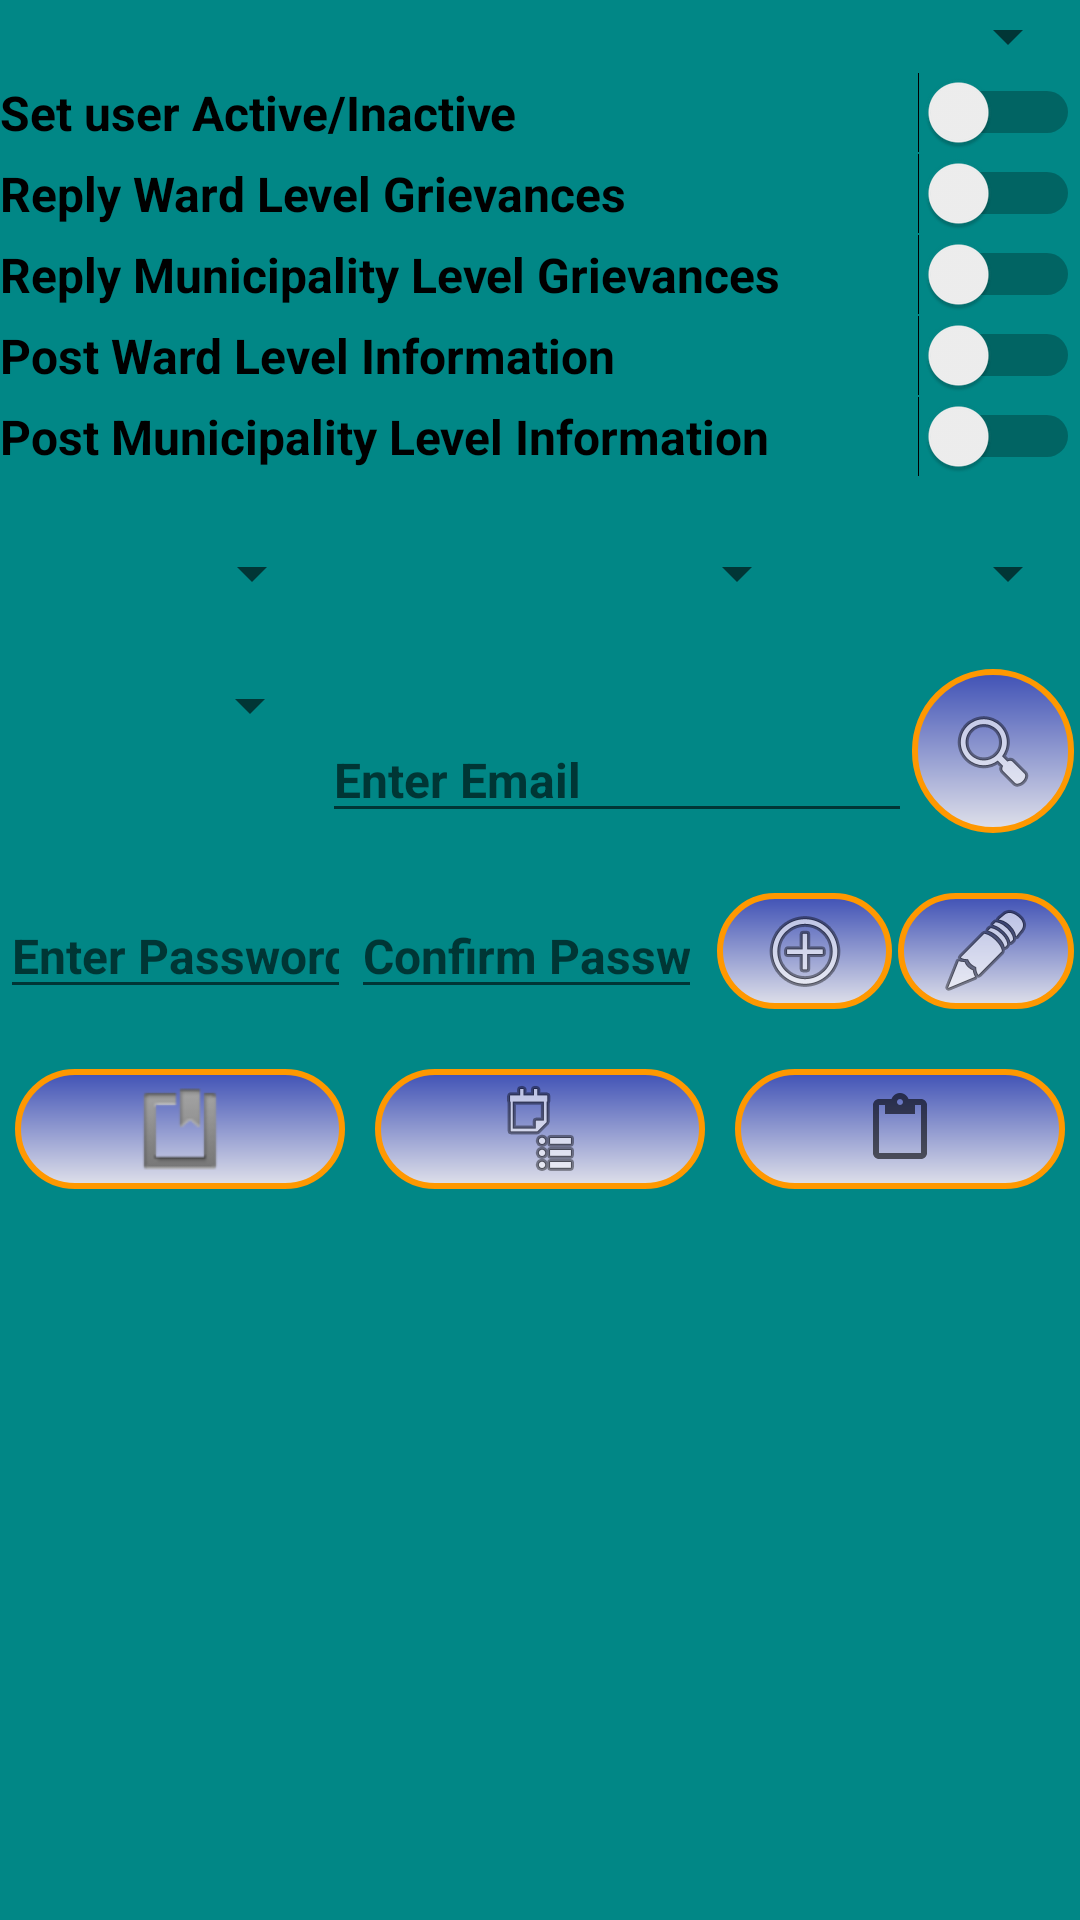

Where icons sit on this 1080w x 1920h app screen, as (x1, y1, x2, y2):
add: (717, 893, 892, 1009)
agenda: (375, 1069, 705, 1189)
edit: (898, 893, 1074, 1009)
search: (912, 669, 1074, 833)
